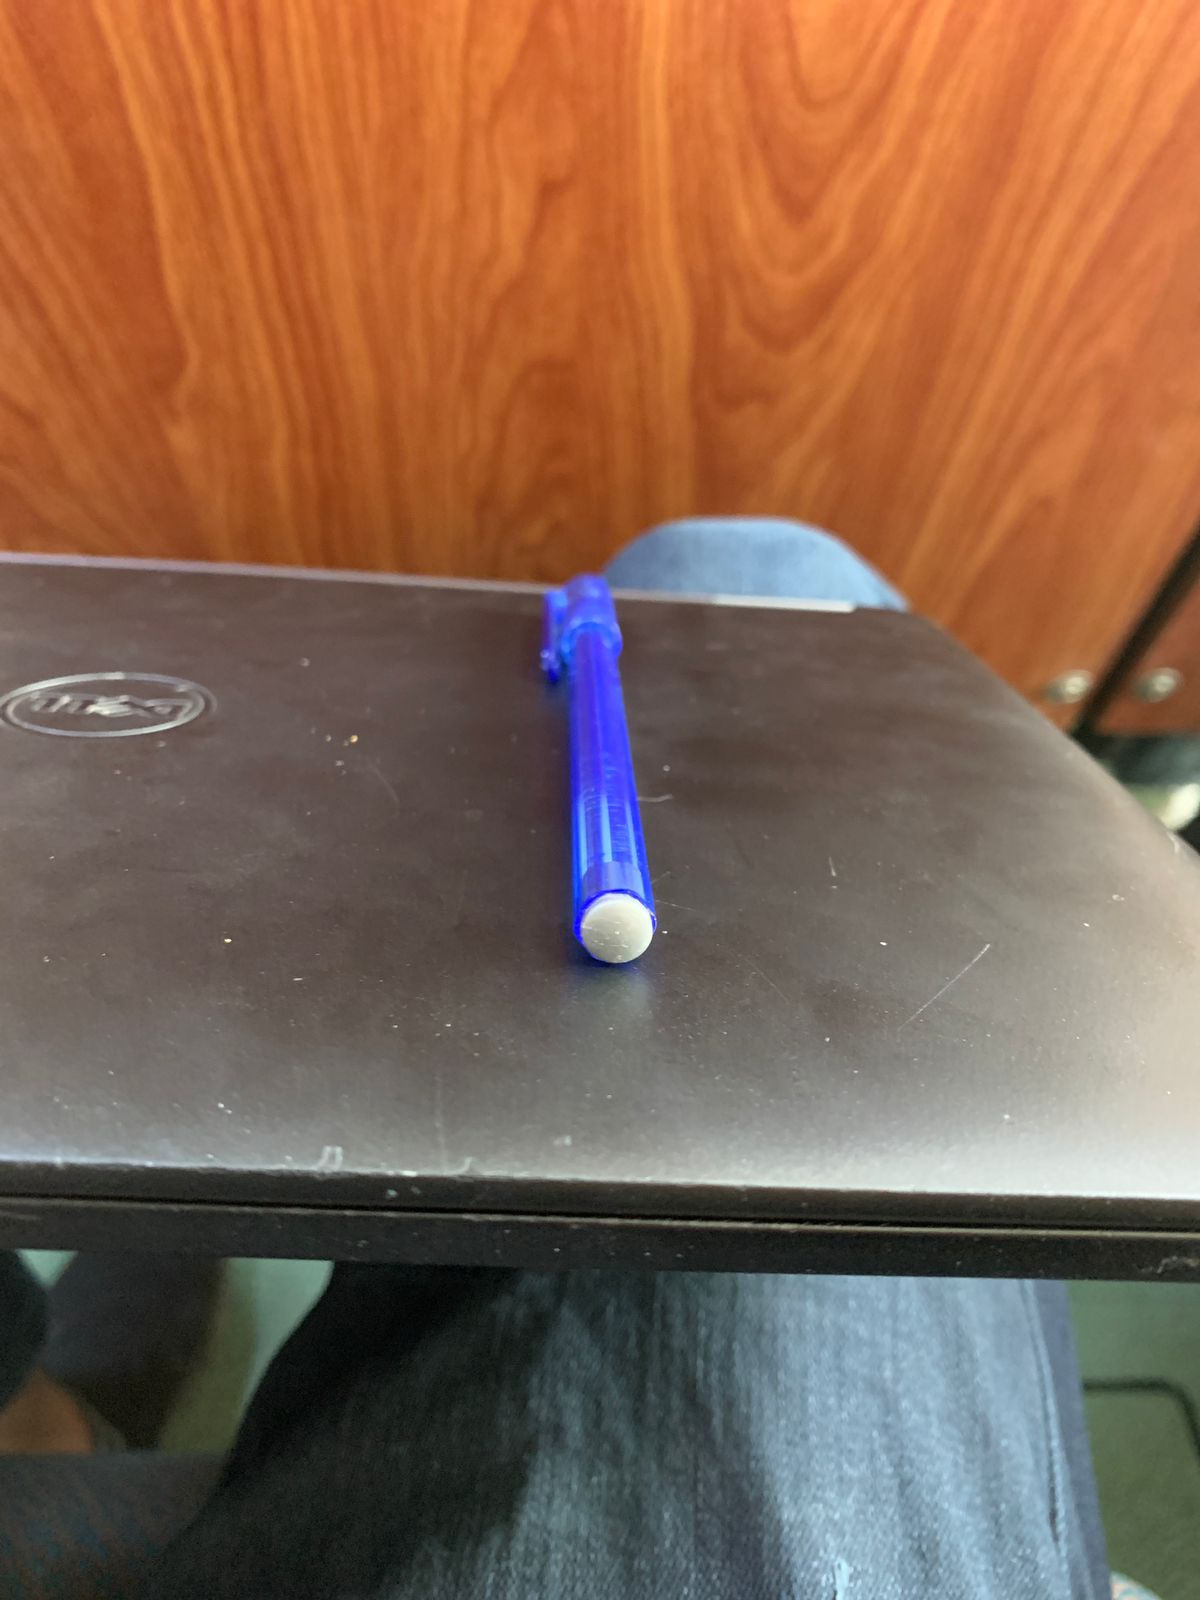pen: (479, 539, 702, 988)
